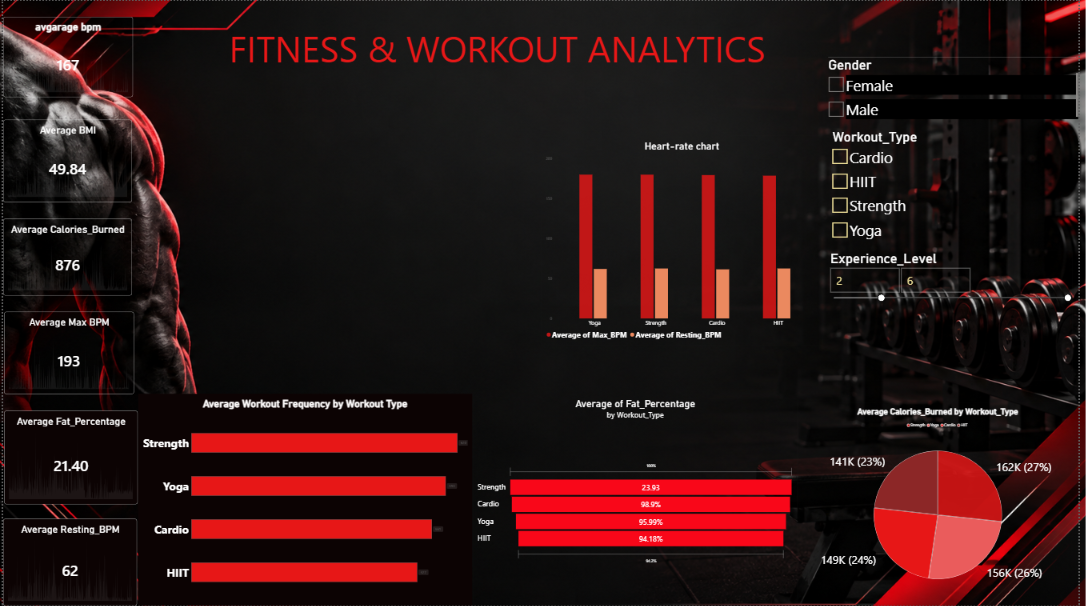

The dashboard page shown, as its layout file describes it:
{"tool":"powerbi","page":{"name":"Page 1","canvas":[3840,2160],"ordinal":0},"visuals":[{"type":"kpi","title":"avgarage  bpm","fields":{"Indicator":["Sum(gym_members_exercise_tracking.Avg_BPM)"],"TrendLine":["gym_members_exercise_tracking.Weight (kg)"]},"box":[0,55.8,463.3,286.7],"z":0},{"type":"kpi","title":"Average BMI","fields":{"Indicator":["Sum(gym_members_exercise_tracking.BMI)"],"TrendLine":["gym_members_exercise_tracking.Weight (kg)"]},"box":[0,425.6,460,293.3],"z":1},{"type":"kpi","title":"Average Calories_Burned ","fields":{"Indicator":["Sum(gym_members_exercise_tracking.Calories_Burned)"],"TrendLine":["gym_members_exercise_tracking.Weight (kg)"]},"box":[0,777.9,460,273.3],"z":2},{"type":"kpi","title":"Average Max BPM","fields":{"Indicator":["Sum(gym_members_exercise_tracking.Max_BPM)"],"TrendLine":["gym_members_exercise_tracking.Weight (kg)"]},"box":[3.5,1109.3,463.3,293.3],"z":3},{"type":"kpi","title":"Average Fat_Percentage","fields":{"Indicator":["Sum(gym_members_exercise_tracking.Fat_Percentage)"],"TrendLine":["gym_members_exercise_tracking.Weight (kg)"]},"box":[3.5,1465.1,476.7,333.3],"z":4},{"type":"kpi","title":"Average Resting_BPM","fields":{"Indicator":["Sum(gym_members_exercise_tracking.Resting_BPM)"],"TrendLine":["gym_members_exercise_tracking.Weight (kg)"]},"box":[0,1848.8,477.9,310.5],"z":6},{"type":"barChart","title":"Average Workout Frequency by Workout Type","fields":{"Category":["gym_members_exercise_tracking.Workout_Type"],"Y":["Sum(gym_members_exercise_tracking.Workout_Frequency (days/week))"]},"box":[481.4,1402.3,1193,757],"z":10},{"type":"pieChart","title":" Average Calories_Burned by Workout_Type","fields":{"Category":["gym_members_exercise_tracking.Workout_Type"],"Y":["Sum(gym_members_exercise_tracking.Calories_Burned)"]},"box":[2836.1,1437.2,1004.7,722.1],"z":11},{"type":"funnel","fields":{"Category":["gym_members_exercise_tracking.Workout_Type"],"Y":["Avg(gym_members_exercise_tracking.Fat_Percentage)"]},"box":[1677.9,1402.3,1158.1,757],"z":12},{"type":"lineClusteredColumnComboChart","title":"Heart-rate chart","fields":{"Category":["gym_members_exercise_tracking.Workout_Type"],"Y":["Avg(gym_members_exercise_tracking.Max_BPM)","Avg(gym_members_exercise_tracking.Resting_BPM)"]},"box":[1920.6,483.5,1004.7,746.5],"z":14},{"type":"slicer","fields":{"Values":["gym_members_exercise_tracking.Gender"]},"box":[2940.7,198.8,900,226.7],"z":15},{"type":"slicer","fields":{"Values":["gym_members_exercise_tracking.Workout_Type"]},"box":[2954.7,457,872.1,457],"z":16},{"type":"slicer","fields":{"Values":["gym_members_exercise_tracking.Experience_Level"]},"box":[2947.7,893,872.1,460.5],"z":17},{"type":"textbox","box":[575.6,83.7,2379.1,258.1],"z":18}]}

Visuals, with their boxes in screenshot pixels (x1, y1, x2, y2), scaled from the page's 3840x2160 canvas onto the 1086x606 screenshot:
"avgarage  bpm" kpi: BBox(0, 16, 131, 96)
"Average BMI" kpi: BBox(0, 119, 130, 202)
"Average Calories_Burned " kpi: BBox(0, 218, 130, 295)
"Average Max BPM" kpi: BBox(1, 311, 132, 394)
"Average Fat_Percentage" kpi: BBox(1, 411, 136, 505)
"Average Resting_BPM" kpi: BBox(0, 519, 135, 605)
"Average Workout Frequency by Workout Type" barChart: BBox(136, 393, 474, 605)
" Average Calories_Burned by Workout_Type" pieChart: BBox(802, 403, 1085, 605)
funnel - gym_members_exercise_tracking.Workout_Type x Avg(gym_members_exercise_tracking.Fat_Percentage): BBox(475, 393, 802, 605)
"Heart-rate chart" lineClusteredColumnComboChart: BBox(543, 136, 827, 345)
slicer - gym_members_exercise_tracking.Gender: BBox(832, 56, 1085, 119)
slicer - gym_members_exercise_tracking.Workout_Type: BBox(836, 128, 1082, 256)
slicer - gym_members_exercise_tracking.Experience_Level: BBox(834, 251, 1080, 380)
textbox: BBox(163, 23, 836, 96)
